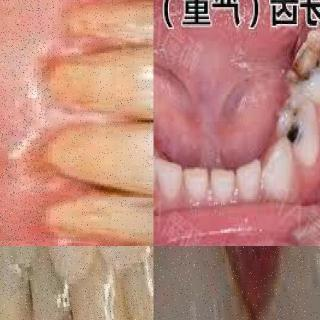Gum Swelling: (0, 0, 102, 246), (153, 246, 320, 320)
cavities: (286, 37, 320, 97), (275, 108, 307, 152)
